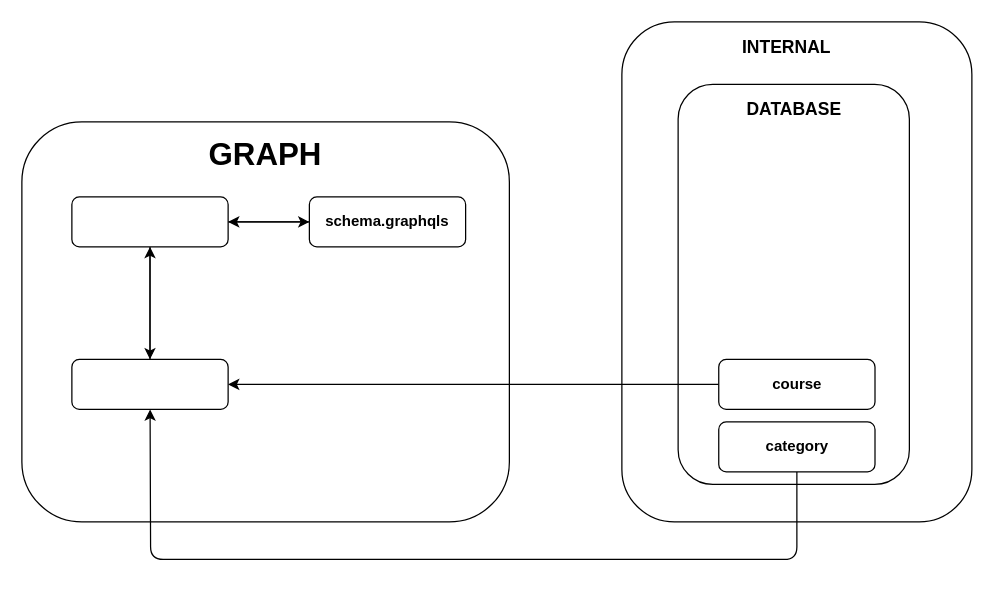
Some shapes in this 994 by 591 pixel diagram are drawn without their labels. Each missing label, with the centre of its shape:
resolver.go: the point at 149,383
schema.resolvers.go: the point at 149,221
